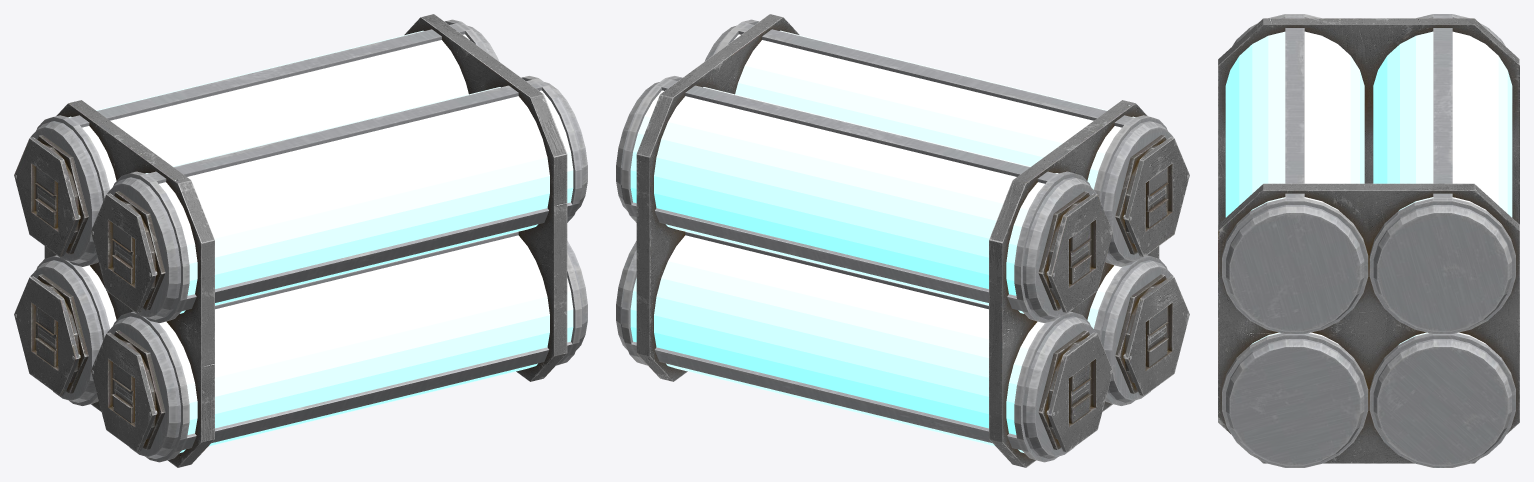
The picture shows the model from 3 angles, left to right: view 1: azimuth 30°, elevation 25°; view 2: azimuth 150°, elevation 25°; view 3: azimuth 270°, elevation 25°; orthographic projection. The views are drawn at different scales.
Parts seen in each view (by area): view 1: Energy, Cap, Casing; view 2: Energy, Cap, Casing; view 3: Casing, Energy, Cap.
Boxes of the visible parts, x1,y1,x2,y2 form: Energy: [68, 30, 573, 453]; Cap: [14, 14, 567, 467]; Casing: [15, 19, 587, 462]; Energy: [630, 30, 1135, 453]; Cap: [636, 14, 1189, 467]; Casing: [616, 19, 1188, 462]; Casing: [1222, 14, 1515, 467]; Energy: [1225, 31, 1512, 344]; Cap: [1218, 18, 1519, 463].
Bounding box in the file's own units: 2 × 1.25 × 1.25.
3 materials, 3 textured.
